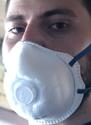with_mask: (2, 1, 91, 125)
